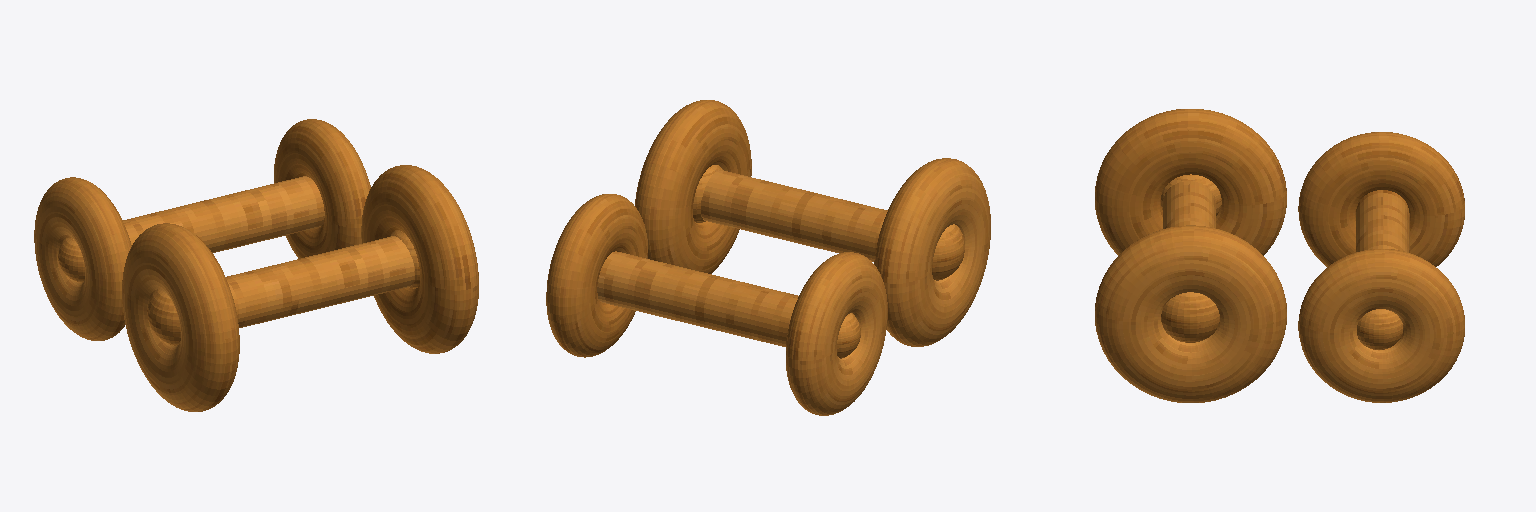
The picture shows the model from 3 angles: view 1: azimuth 30°, elevation 25°; view 2: azimuth 150°, elevation 25°; view 3: azimuth 270°, elevation 25°; orthographic projection.
Parts seen in each view (by area): view 1: wheel_back_left_loco.001; view 2: wheel_back_left_loco.001; view 3: wheel_back_left_loco.001.
Part boxes in pixels (bbox=[...]): wheel_back_left_loco.001: bbox=[34, 119, 478, 411]; wheel_back_left_loco.001: bbox=[546, 100, 990, 415]; wheel_back_left_loco.001: bbox=[1095, 109, 1464, 402].
Size of the model in its own units: 3.57 by 2.01 by 3.87.
Materials: 2 (1 with a texture image).